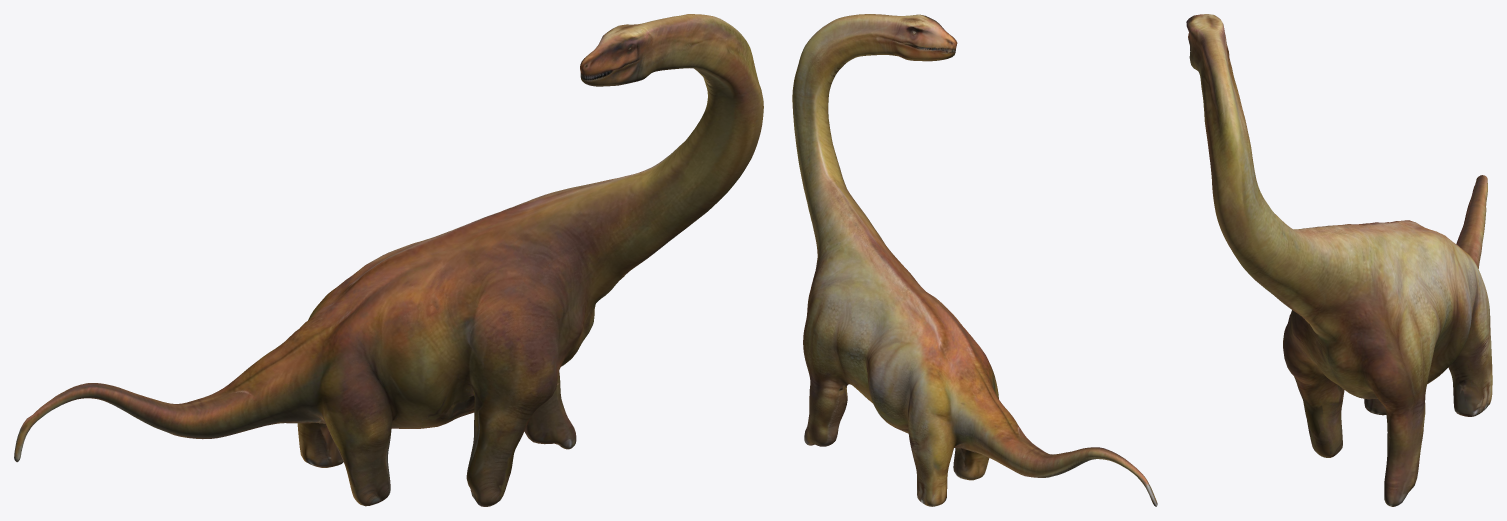
3 views of the same model, side by side, from view 1: azimuth 30°, elevation 25°; view 2: azimuth 150°, elevation 25°; view 3: azimuth 270°, elevation 25° (orthographic). The views are drawn at different scales.
Parts seen in each view (by area): view 1: Mesh0; view 2: Mesh0; view 3: Mesh0.
Boxes of the visible parts, x1,y1,x2,y2 form: Mesh0: (14,14,763,506); Mesh0: (792,14,1157,506); Mesh0: (1186,14,1492,506).
Size of the model in its own units: 0.0818 by 0.0642 by 0.0379.
Materials: 1 (1 with a texture image).
